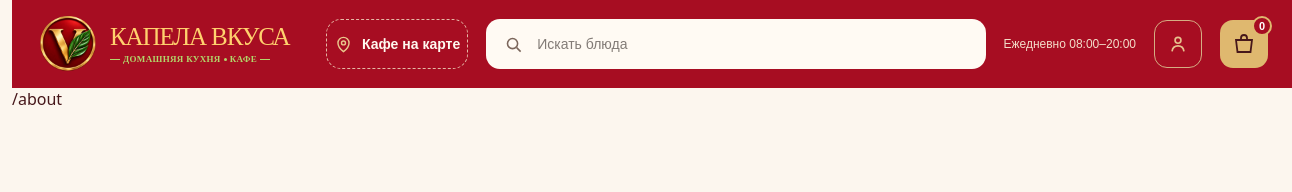
Test: поиск отправляет запрос из шапки на страницу результатов
The image size is (1292, 192).
(page scrolled)
Step 1. Type "  Сырники  " into the search field labelled "Искать блюда" → (753, 44), box [535,35,970,53]
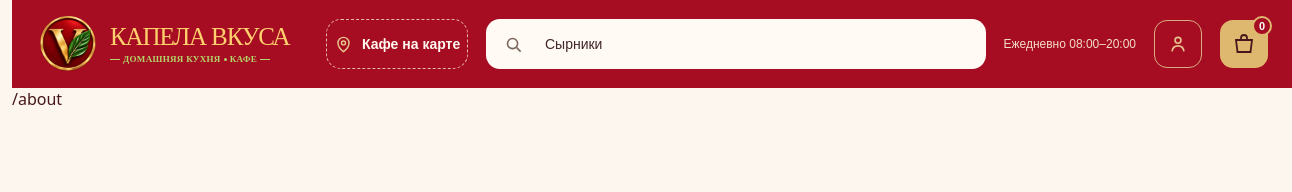
Step 2. Click the button named "Найти блюда" → (513, 44), box [501,26,525,62]
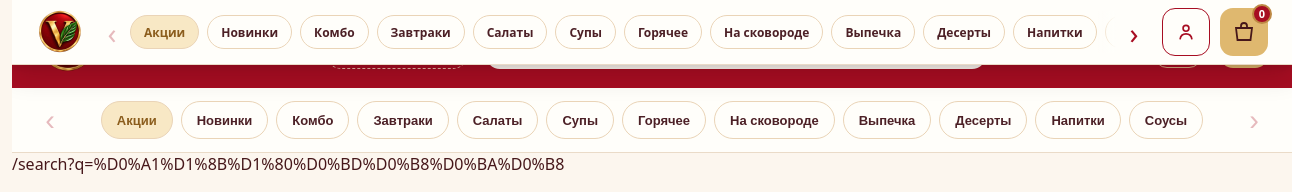
Now the text with test id "location" reads "/search?q=%D0%A1%D1%8B%D1%80%D0%BD%D0%B8%D0%BA%D0%B8", box [12,153,564,175]
